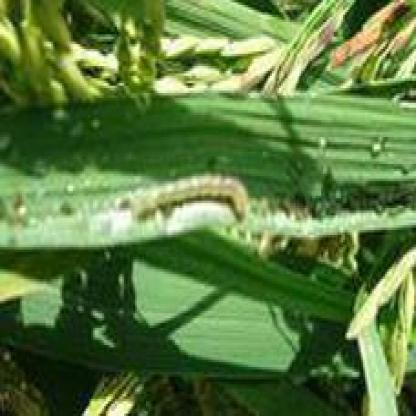leaf-folder: (140, 164, 252, 232)
